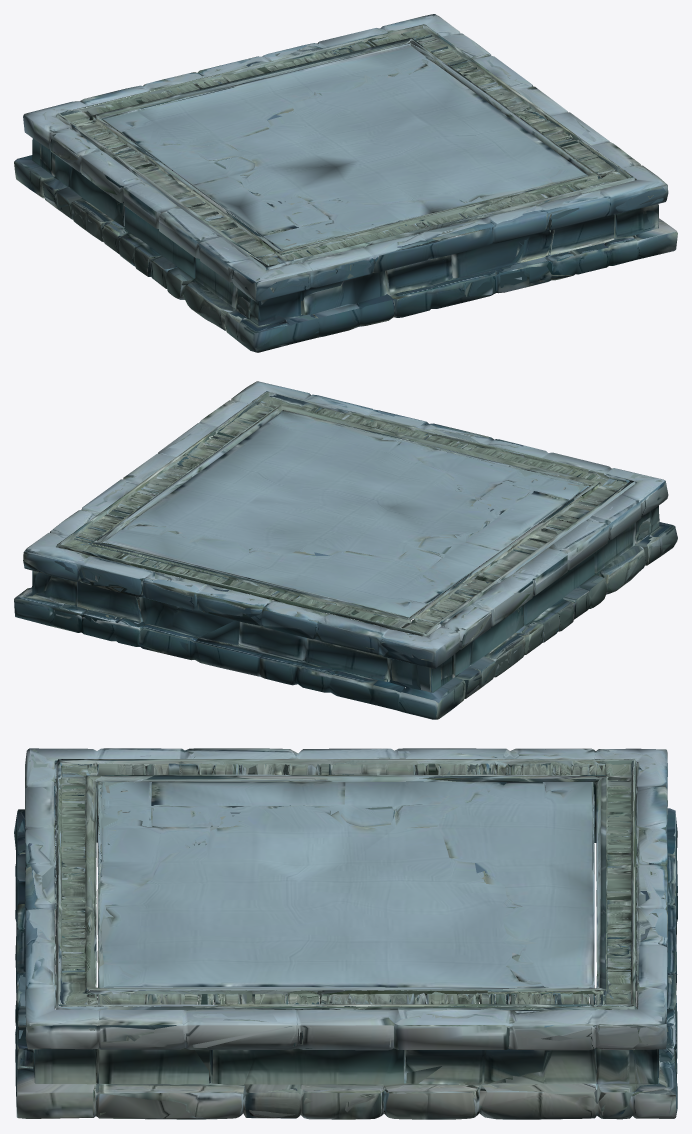
File: gardenBase-compressed.glb
The picture shows the model from 3 angles, top to bottom: view 1: azimuth 30°, elevation 25°; view 2: azimuth 150°, elevation 25°; view 3: azimuth 270°, elevation 25°; orthographic projection. The views are drawn at different scales.
Visible parts, largest first — view 1: node_0; view 2: node_0; view 3: node_0.
Boxes of the visible parts, bbox=[...] form: node_0: bbox=[14, 14, 677, 352]; node_0: bbox=[14, 381, 677, 719]; node_0: bbox=[14, 748, 677, 1119].
Bounding box in the file's own units: 8.49 × 1.33 × 8.32.
1 material, 1 textured.
